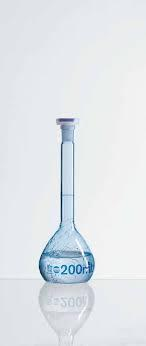Volumetric flask: (31, 108, 101, 286)
